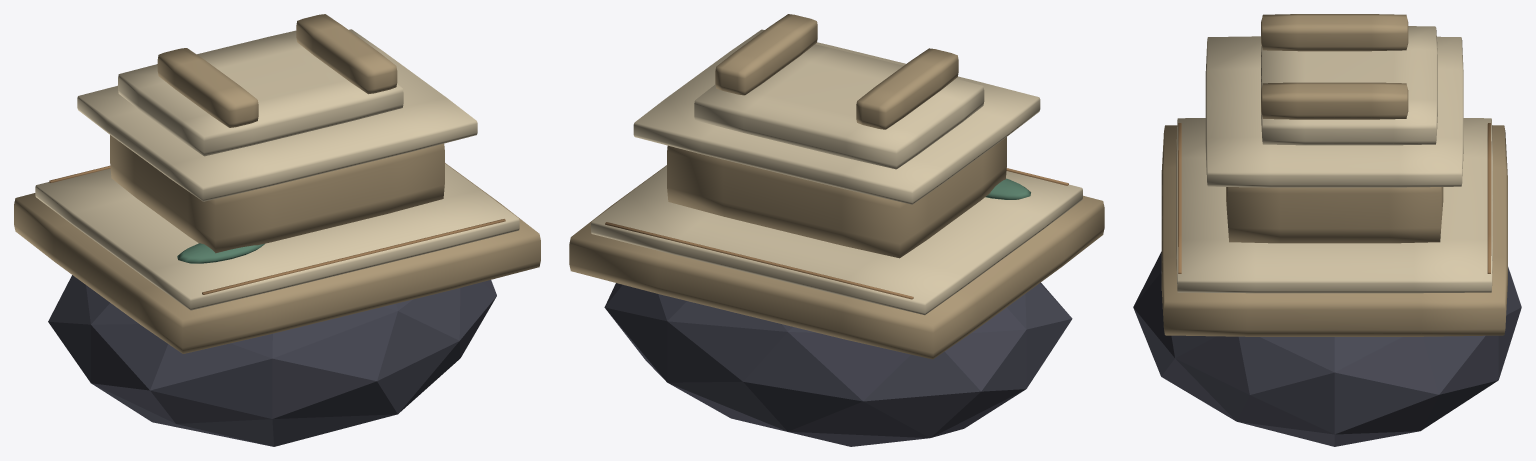
The model's file is Ruin3.glb.
3 views of the same model, side by side, from view 1: azimuth 30°, elevation 25°; view 2: azimuth 150°, elevation 25°; view 3: azimuth 270°, elevation 25° (orthographic).
Visible parts, largest first — view 1: Ruin3__Body; view 2: Ruin3__Body; view 3: Ruin3__Body.
Part boxes in pixels (<box>): Ruin3__Body: <box>14,14,540,446</box>; Ruin3__Body: <box>569,14,1104,446</box>; Ruin3__Body: <box>1133,14,1521,446</box>.
Bounding box in the file's own units: 3.39 × 2.99 × 2.95.
1 material, 1 textured.
